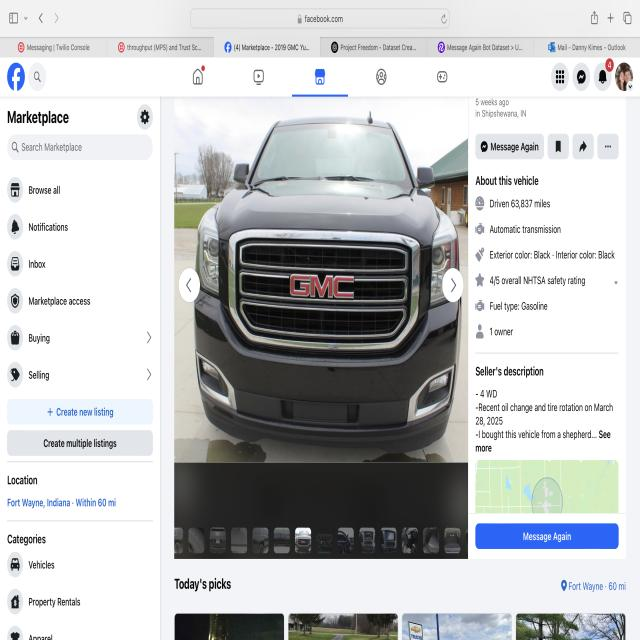message_button: (476, 522, 618, 548)
